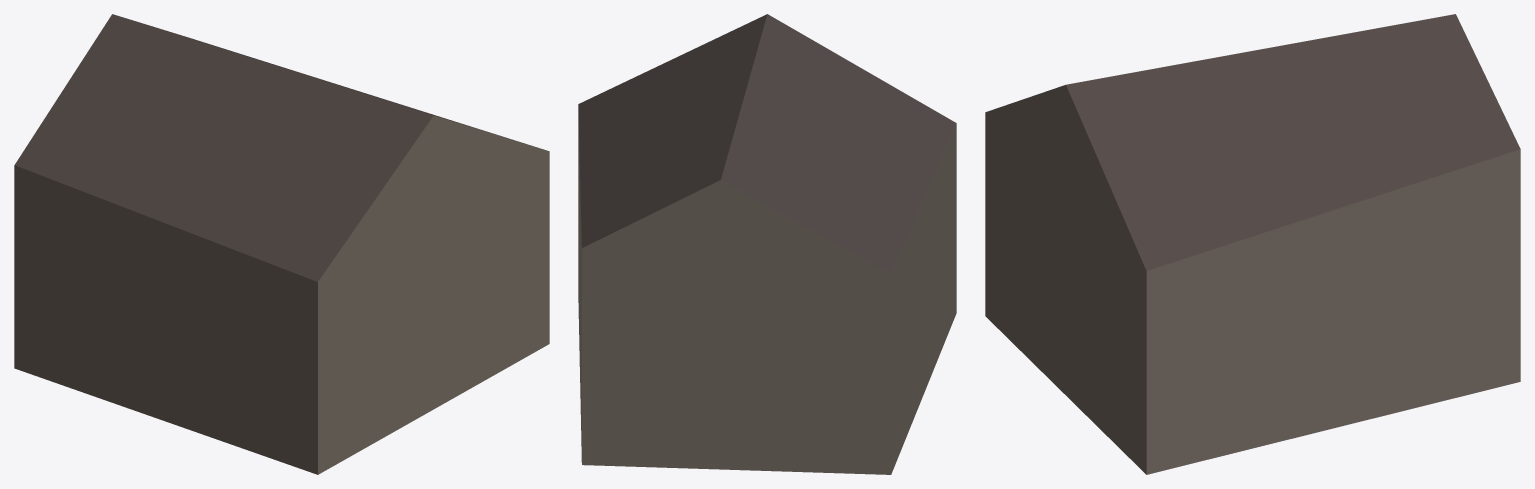
3 views of the same model, side by side, from view 1: azimuth 30°, elevation 25°; view 2: azimuth 150°, elevation 25°; view 3: azimuth 270°, elevation 25° (orthographic). The views are drawn at different scales.
Parts seen in each view (by area): view 1: HP-w1512911312; view 2: HP-w1512911312; view 3: HP-w1512911312.
Part boxes in pixels (bbox=[...]): HP-w1512911312: bbox=[14, 14, 549, 474]; HP-w1512911312: bbox=[578, 14, 956, 474]; HP-w1512911312: bbox=[985, 14, 1520, 474].
Bounding box in the file's own units: 13.88 × 9.15 × 14.28.
